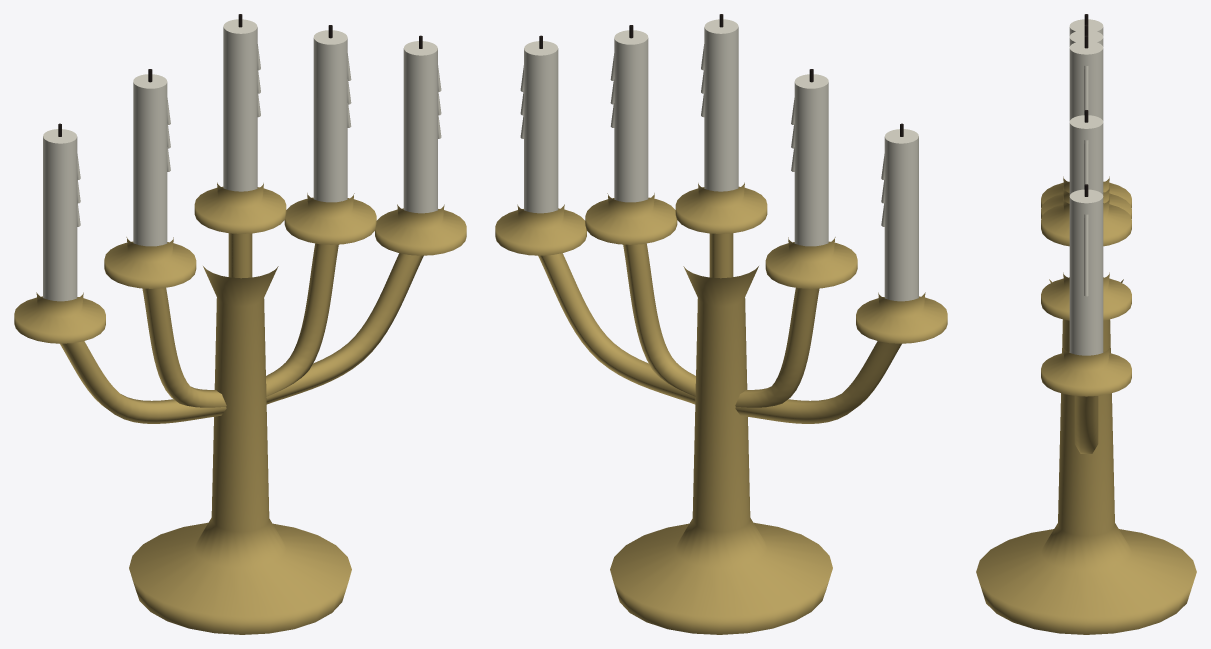
Rendered from candelabra.glb.
The picture shows the model from 3 angles, left to right: view 1: azimuth 30°, elevation 25°; view 2: azimuth 150°, elevation 25°; view 3: azimuth 270°, elevation 25°; orthographic projection. The views are drawn at different scales.
Parts seen in each view (by area): view 1: candelabra; view 2: candelabra; view 3: candelabra.
Part boxes in pixels (<box>): candelabra: <box>14,14,466,634</box>; candelabra: <box>495,14,947,634</box>; candelabra: <box>976,14,1196,634</box>.
Size of the model in its own units: 0.4 by 0.5 by 0.18.
